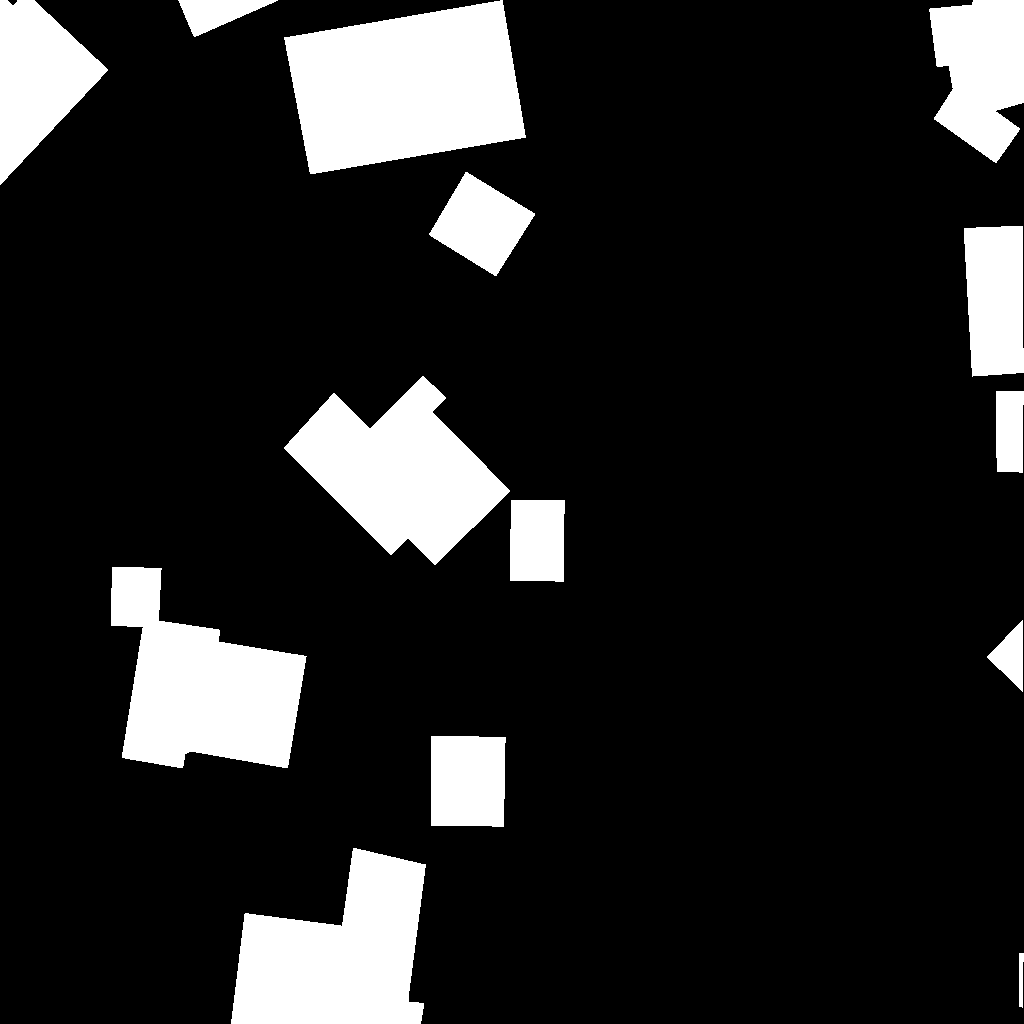building: (284, 376, 511, 566), (284, 0, 527, 175), (111, 567, 307, 769), (231, 848, 427, 1024), (0, 0, 109, 186), (929, 0, 1024, 164), (429, 172, 536, 277), (964, 226, 1024, 377), (431, 736, 506, 827), (510, 500, 565, 582), (178, 0, 280, 38), (987, 620, 1024, 693), (996, 391, 1024, 473), (1019, 953, 1024, 1008)
